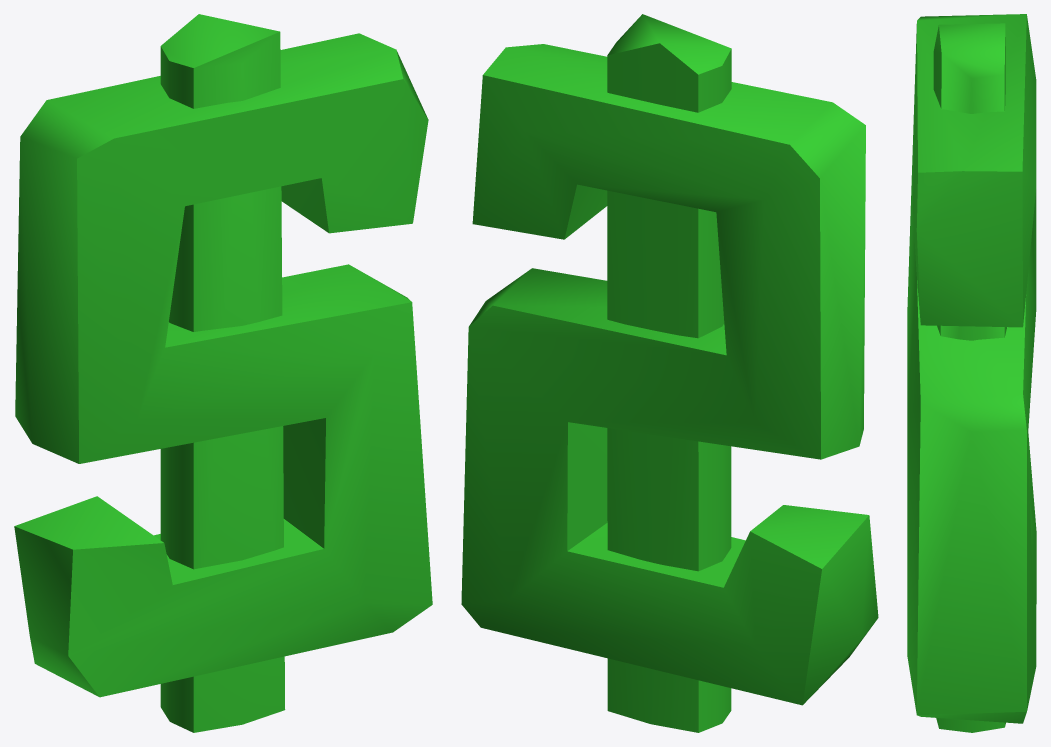
Rendered from 02 money.FBX.
3 renders of one model, left to right at view 1: azimuth 30°, elevation 25°; view 2: azimuth 150°, elevation 25°; view 3: azimuth 270°, elevation 25°, orthographic.
Visible parts, largest first — view 1: SM_Icon_Letter_Money_01; view 2: SM_Icon_Letter_Money_01; view 3: SM_Icon_Letter_Money_01.
Part boxes in pixels (x1=…): SM_Icon_Letter_Money_01: x1=14, y1=14, x2=432, y2=732; SM_Icon_Letter_Money_01: x1=461, y1=14, x2=878, y2=732; SM_Icon_Letter_Money_01: x1=907, y1=14, x2=1036, y2=732.
Size of the model in its own units: 38.06 by 66.09 by 11.36.
